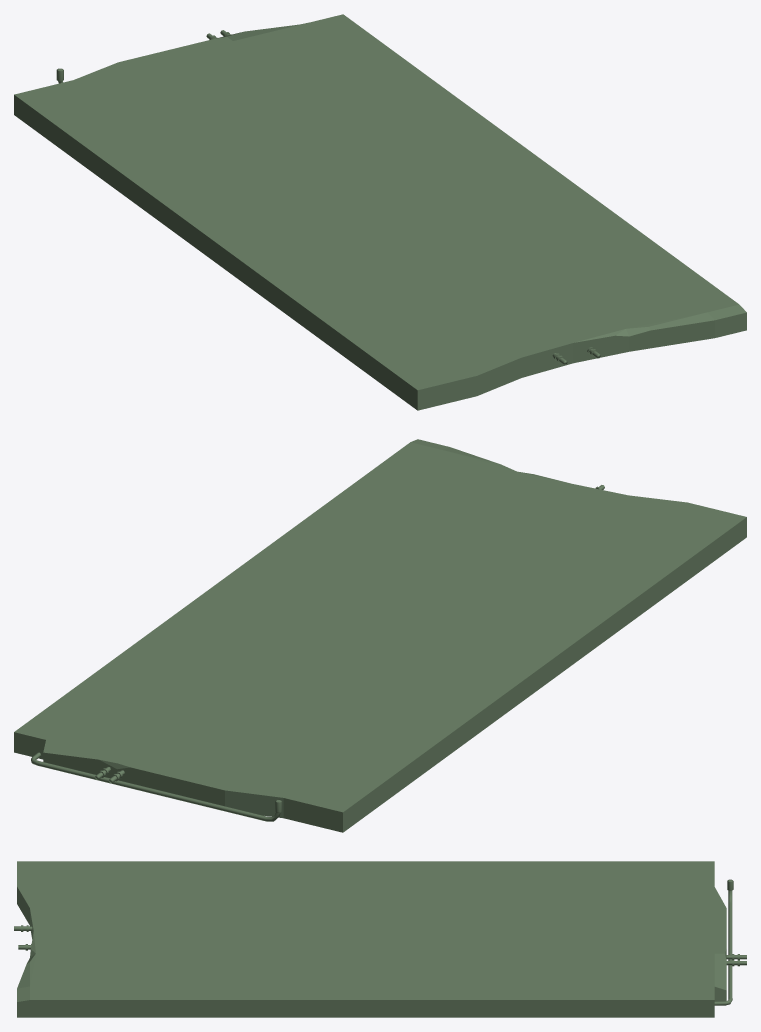
Rendered from longcFloor2_LP.fbx.
3 views of the same model, one above another, from view 1: azimuth 30°, elevation 25°; view 2: azimuth 150°, elevation 25°; view 3: azimuth 270°, elevation 25° (orthographic). The views are drawn at different scales.
Visible parts, largest first — view 1: pCube65; view 2: pCube65, longcFloor4_LP1; view 3: pCube65, longcFloor4_LP1.
Boxes of the visible parts, x1=… form: pCube65: x1=14, y1=14, x2=746, y2=410; pCube65: x1=14, y1=439, x2=746, y2=832; longcFloor4_LP1: x1=31, y1=485, x2=604, y2=821; pCube65: x1=17, y1=861, x2=726, y2=1017; longcFloor4_LP1: x1=14, y1=879, x2=746, y2=1005.
Size of the model in its own units: 1048 by 75.6 by 2338.
